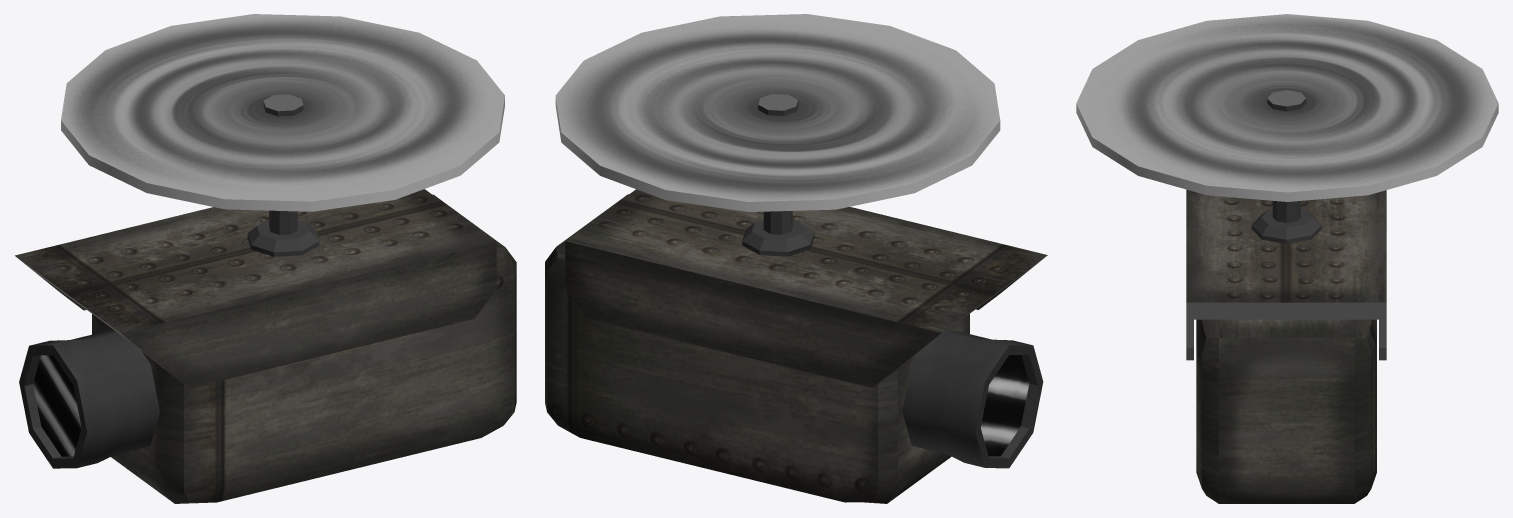
File: Spyware.FBX
The picture shows the model from 3 angles, left to right: view 1: azimuth 30°, elevation 25°; view 2: azimuth 150°, elevation 25°; view 3: azimuth 270°, elevation 25°; orthographic projection. The views are drawn at different scales.
Parts seen in each view (by area): view 1: Spyware; view 2: Spyware; view 3: Spyware.
Part boxes in pixels (bbox=[...]): Spyware: bbox=[15, 14, 516, 503]; Spyware: bbox=[545, 14, 1047, 503]; Spyware: bbox=[1076, 14, 1498, 503].
Bounding box in the file's own units: 75.97 × 58.64 × 68.93.
